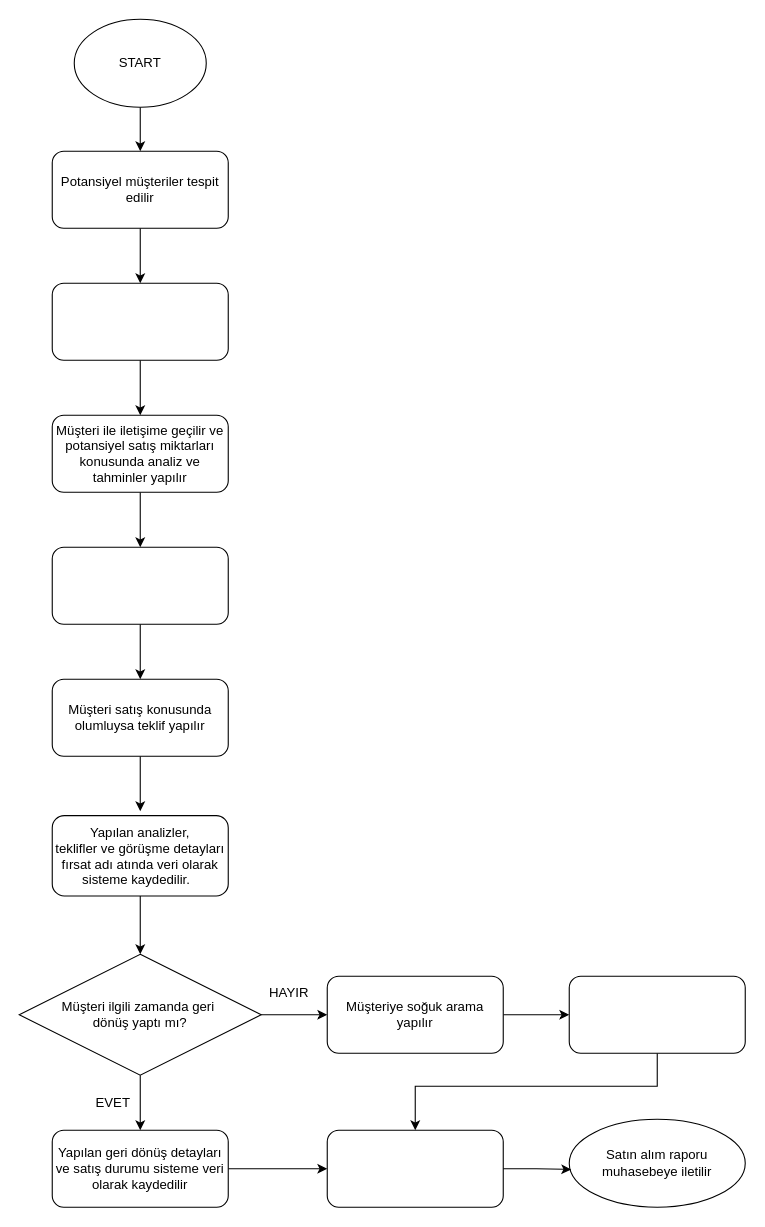
Some shapes in this 765 by 1227 pixel diagram are drawn without their labels. Here are the shapes that lost their labels. From the top down, the centre of each, then its label:
the point at 139,321: Müşteri bilgileri ve iletişim kanalları veri olarak sisteme kaydedilir
the point at 139,585: Müşteriye ürün kataloğu hakkında bilgilendirme yapılır
the point at 656,1014: Yapılan görüşme detayları sisteme veri olarak kaydedilir
the point at 414,1168: Müşteri satış konusunda olumluysa satış raporu sistem üzerinden oluşturulur
